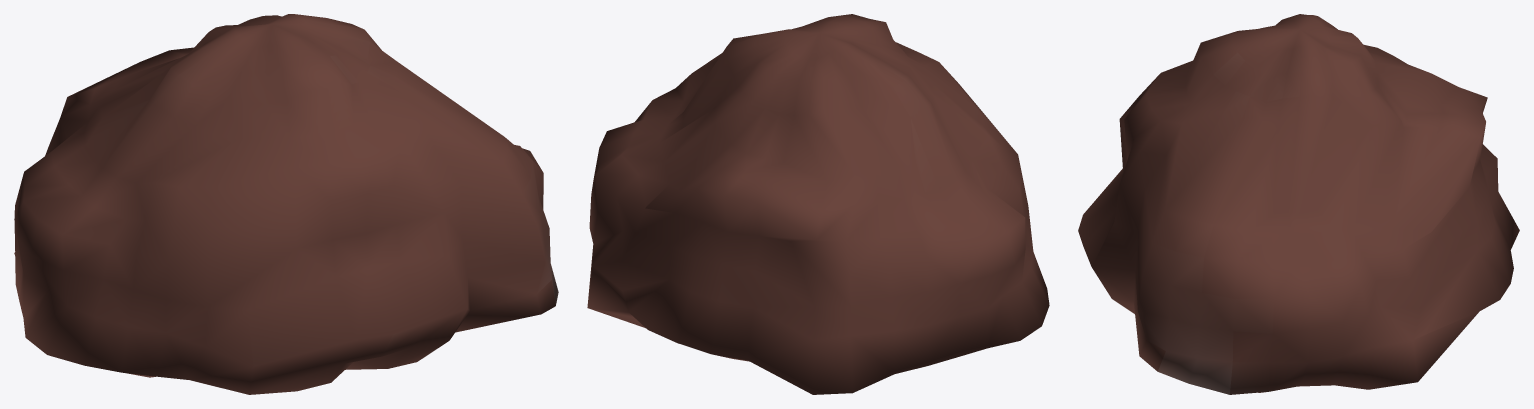
File: rockv1.glb
3 views of the same model, side by side, from view 1: azimuth 30°, elevation 25°; view 2: azimuth 150°, elevation 25°; view 3: azimuth 270°, elevation 25° (orthographic). The views are drawn at different scales.
Parts seen in each view (by area): view 1: Sphere; view 2: Sphere; view 3: Sphere.
Boxes of the visible parts, left/top/right/bottom form: Sphere: left=14, top=14, right=558, bottom=394; Sphere: left=587, top=14, right=1049, bottom=394; Sphere: left=1078, top=14, right=1519, bottom=394.
Size of the model in its own units: 2.86 by 1.73 by 2.51.
